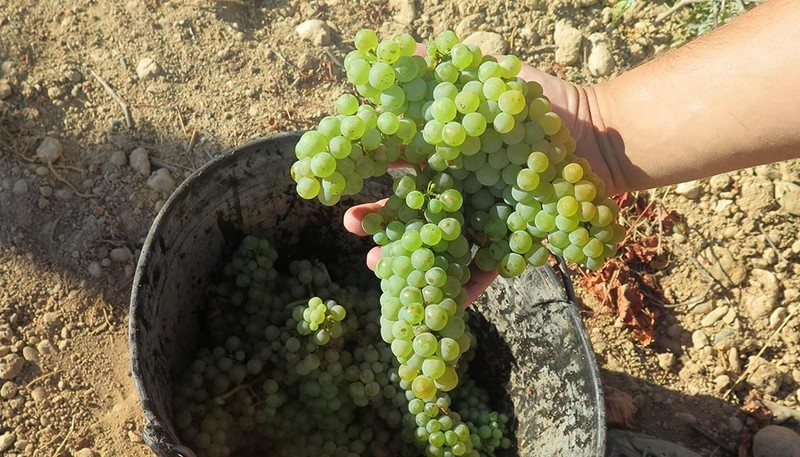Green grapes: (340, 35, 617, 268), (367, 174, 483, 457), (202, 323, 375, 438), (227, 249, 368, 357)
